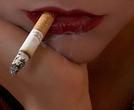smoke: (10, 4, 59, 76)
